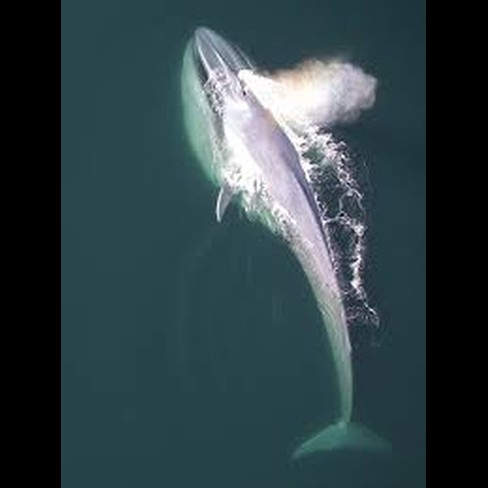bluewhale: (175, 24, 403, 470)
